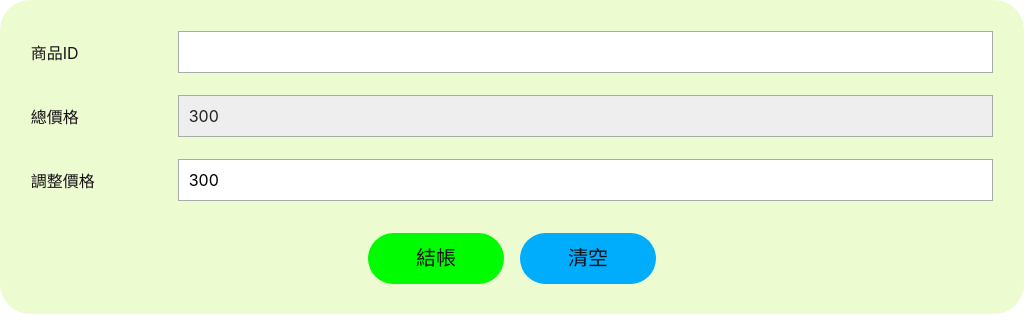
Test case: SellAmountPanel › commits a positive whole adjusted total and restores invalid values
Replace the text in the field named "整單調整價格" with "400" at (586, 180), box [178,159,993,201]
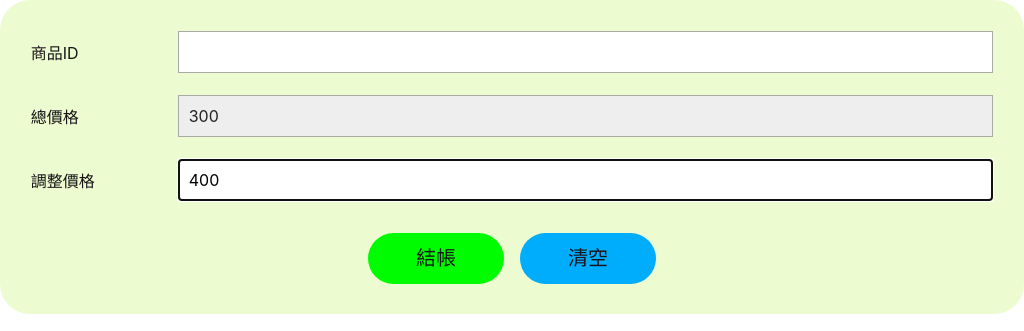
Replace the text in the field named "整單調整價格" with "1.5" at (586, 180), box [178,159,993,201]
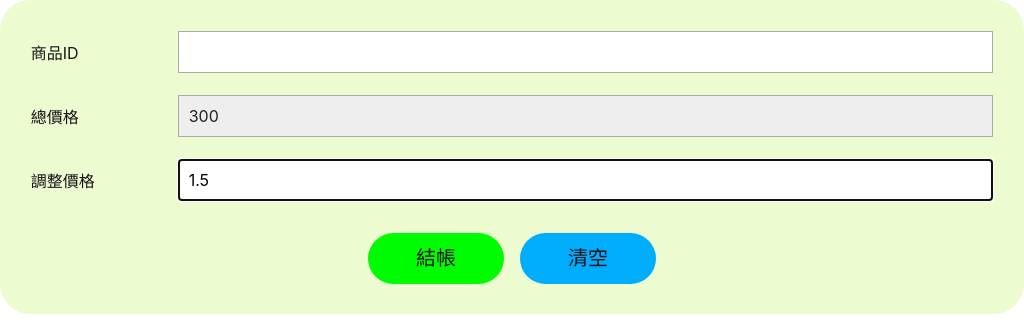
Leave the field named "整單調整價格", box [178,159,993,201]
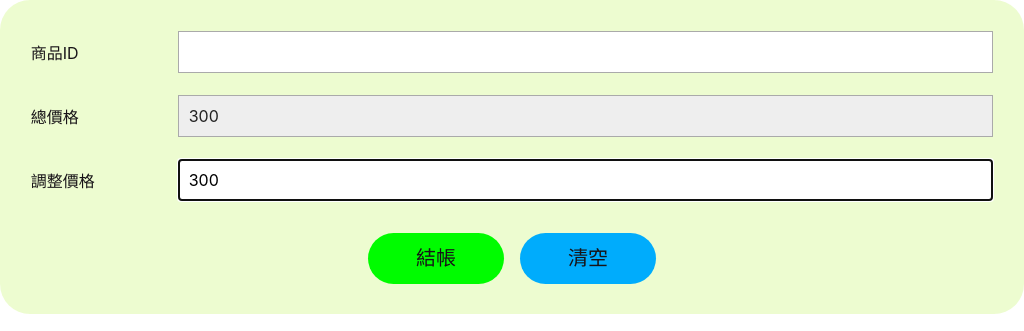
expect the field named "整單調整價格" holds "300": met, box [178,159,993,201]
